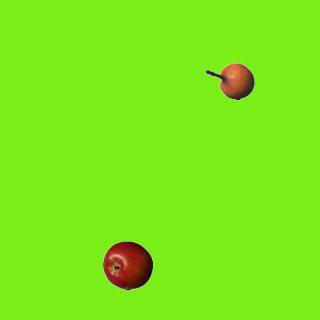Apple Braeburn: (102, 240, 152, 290)
Granadilla: (204, 56, 254, 106)
